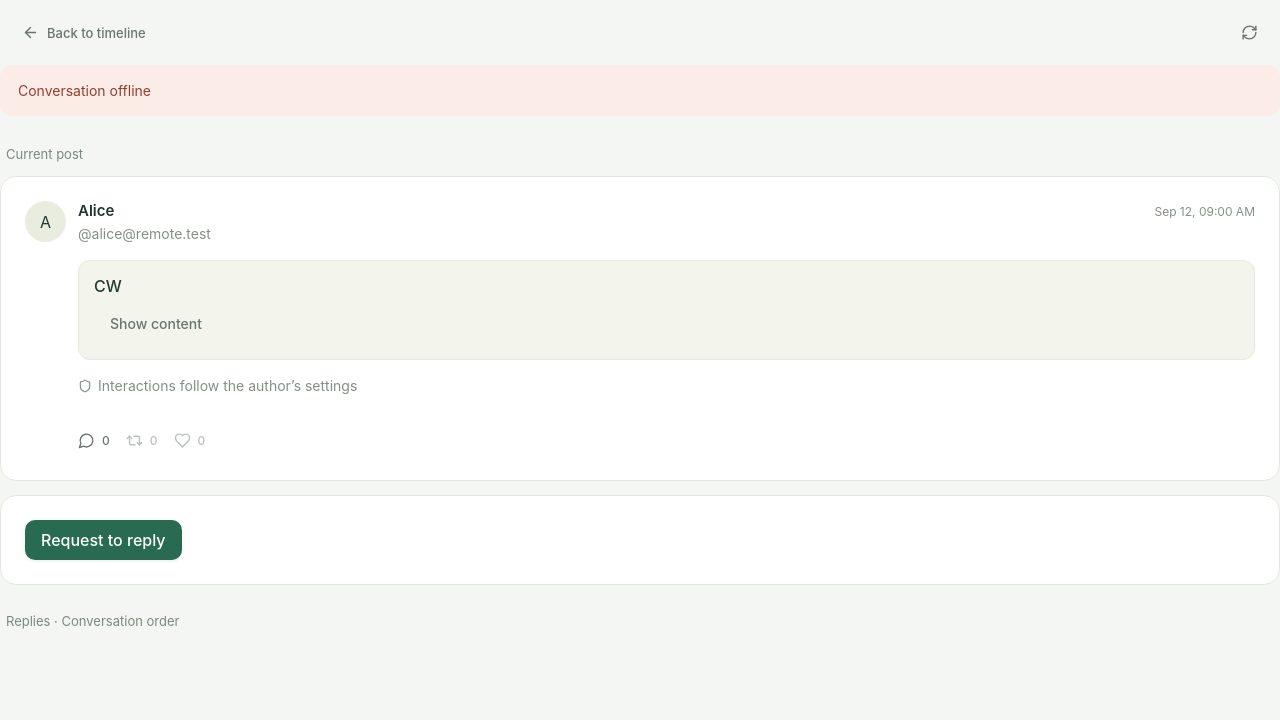
Scenario: thread reply flow › keeps readable detail when context fails and blocks leaving an unfinished reply
Click the button "Show content". click: (156, 324)
box: [94,304,218,344]
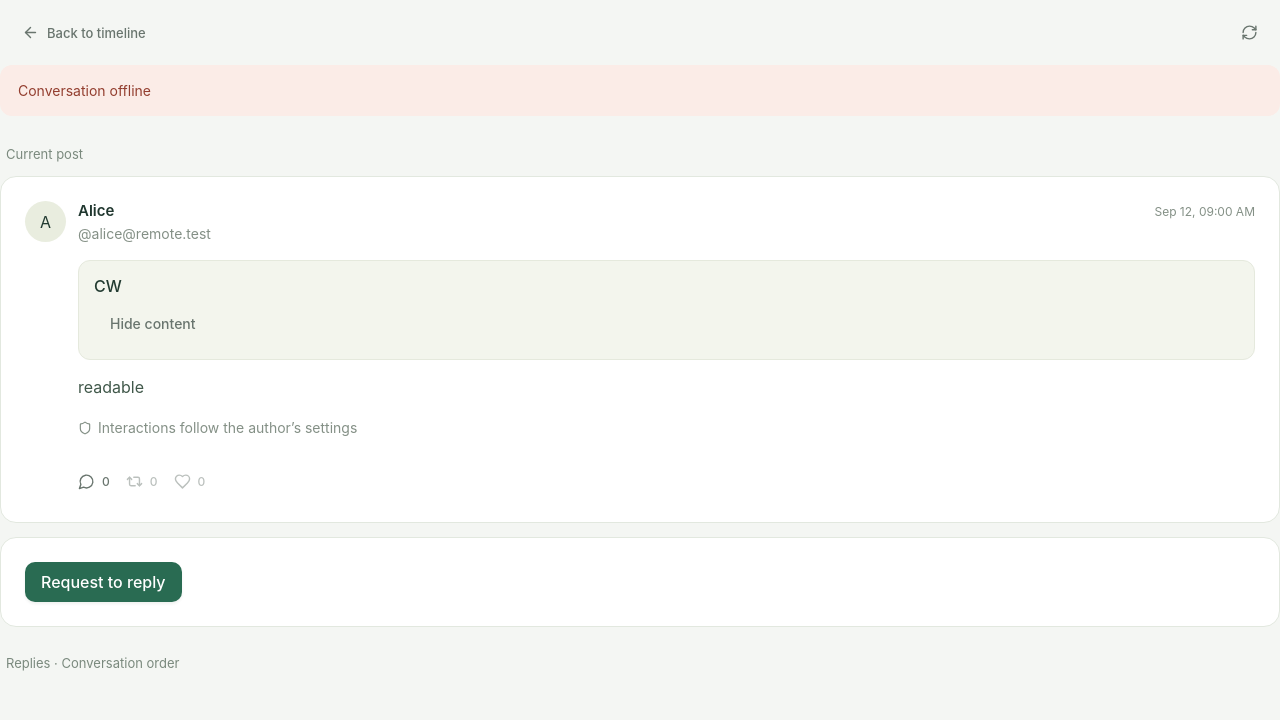
Result: the text "readable" is shown at [78,377,144,397]
Click the button "Request to reply". click: (103, 582)
box: [25,562,182,602]
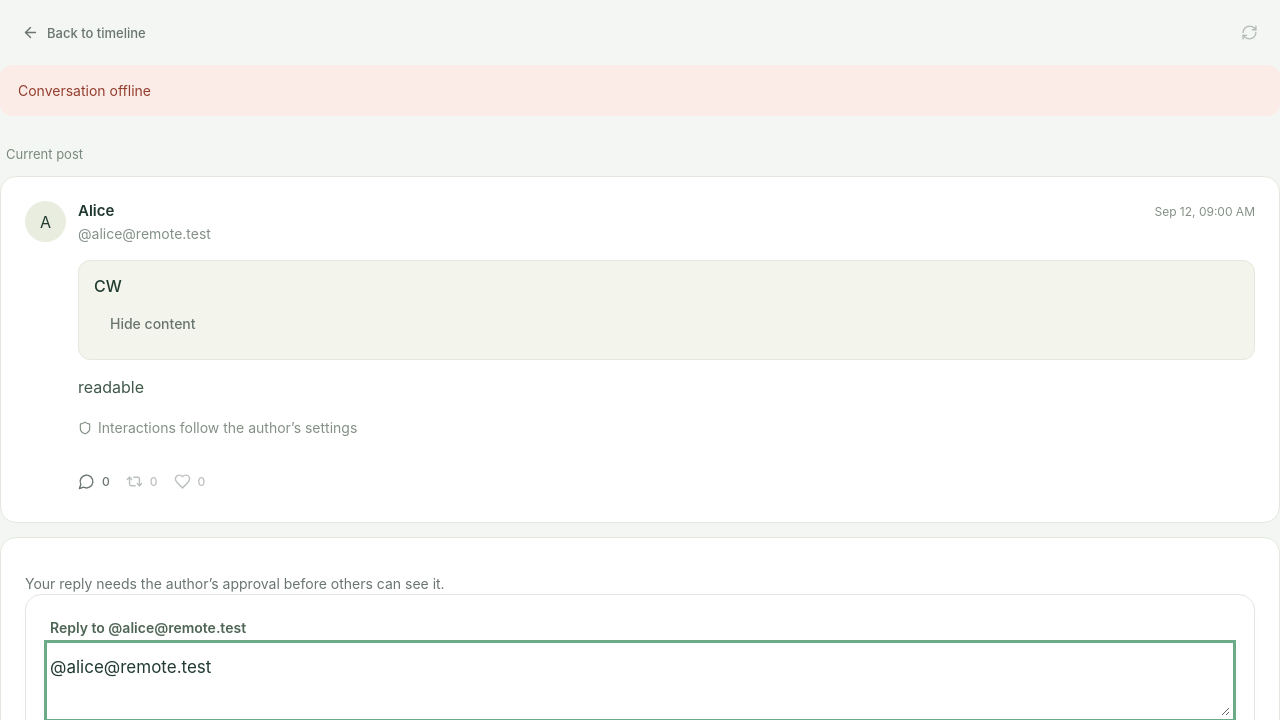
Click the button "Back to timeline". click: (84, 32)
box: [6,14,162,51]
(page scrolled)
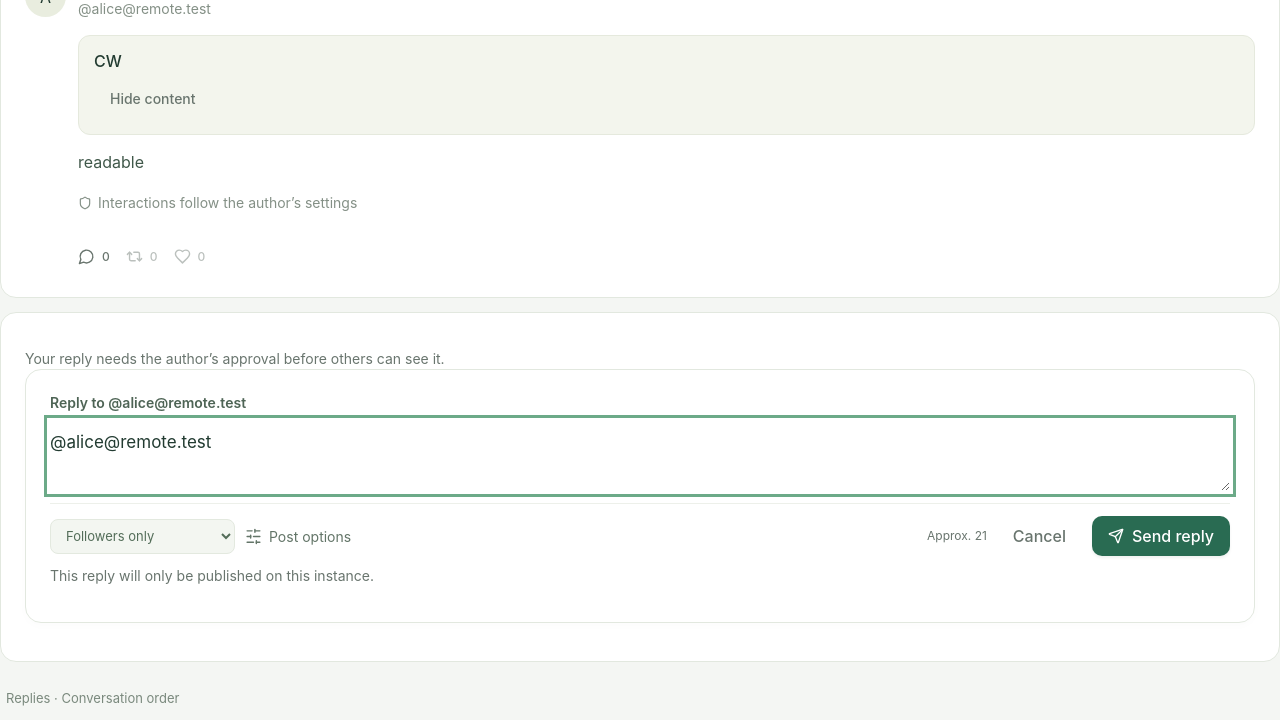
Click the button "Cancel". click: (1039, 536)
box: [997,516,1082,556]
(page scrolled)
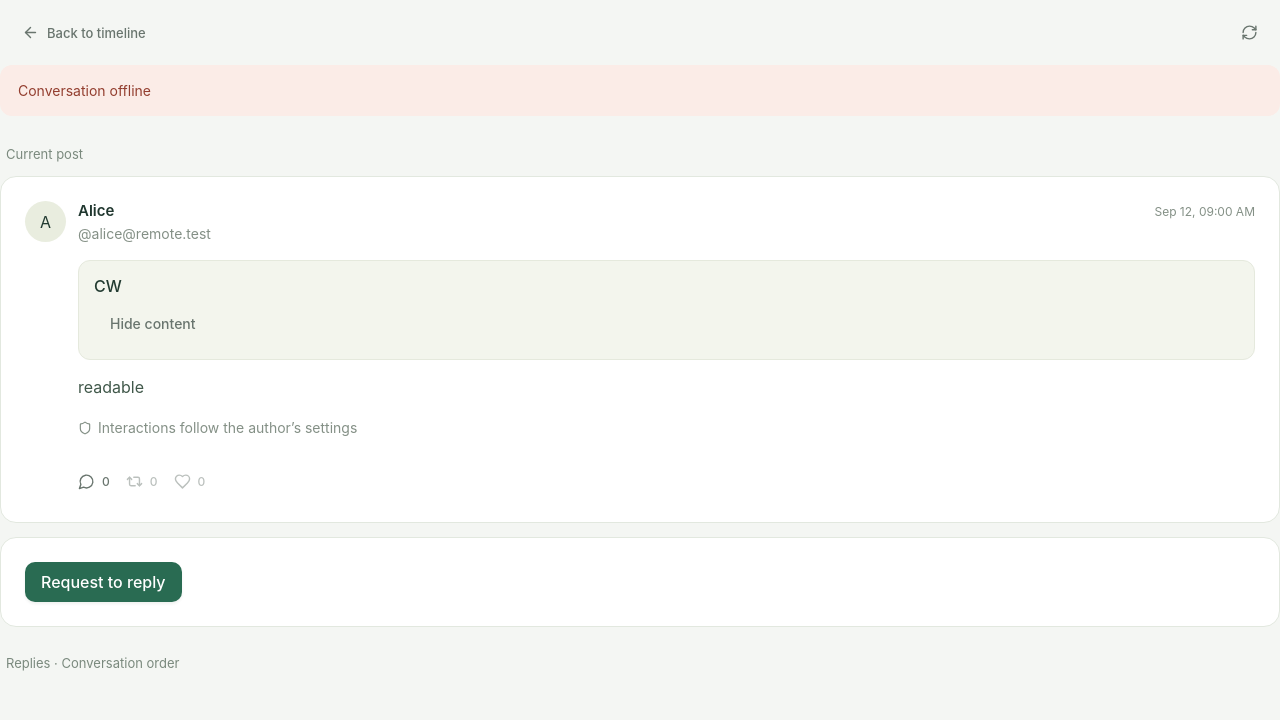
Result: the form is gone
